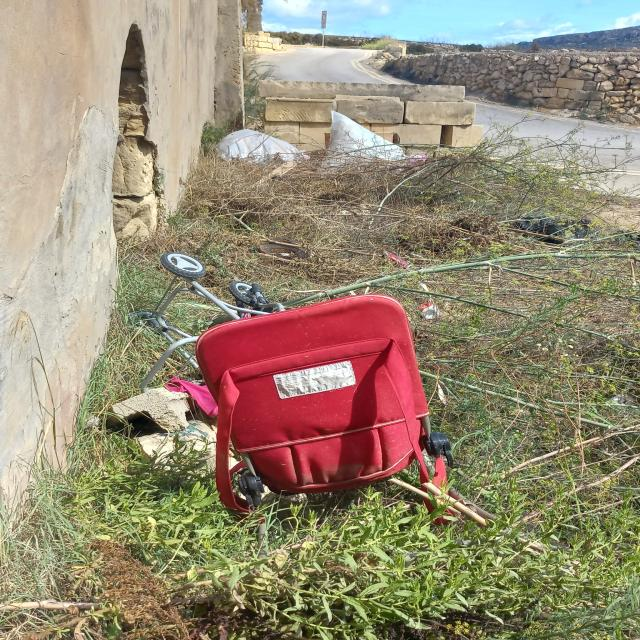Can: (416, 301, 440, 320)
Other litter: (132, 249, 458, 551), (256, 243, 312, 263), (271, 237, 300, 246)
Other plastic: (382, 251, 411, 268)
Plastic bag - wrapper: (318, 110, 431, 178), (513, 212, 640, 251), (215, 129, 315, 167)
